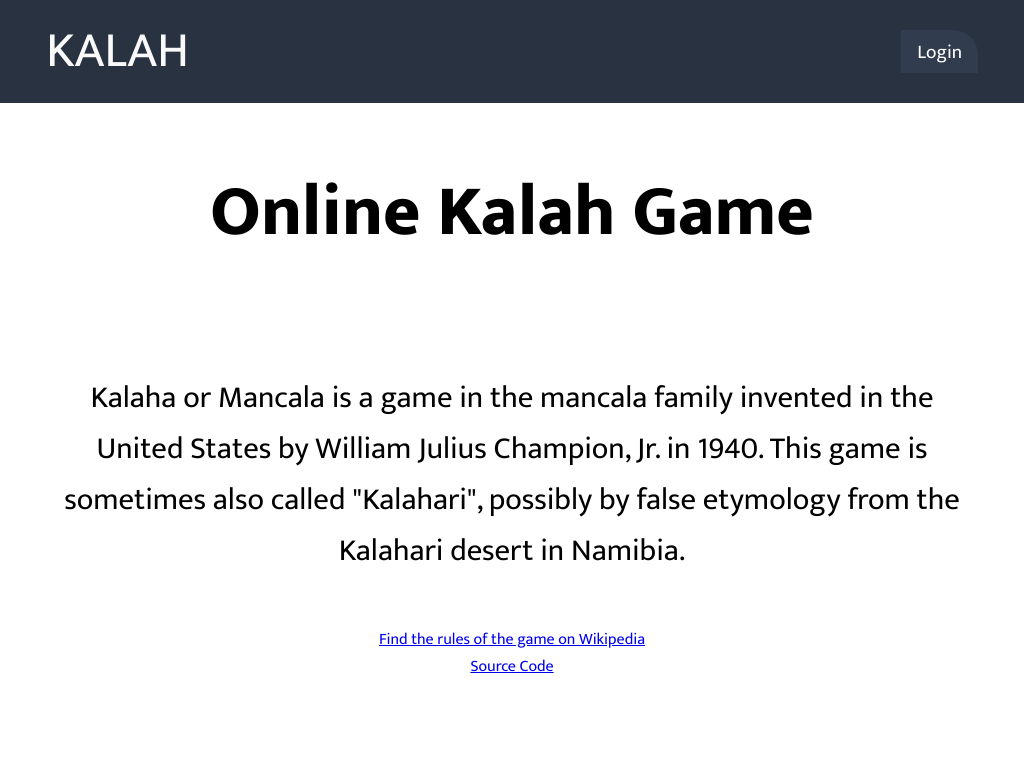
Test: Login › should login
Click the link "Login": (940, 52) [901,30,978,73]
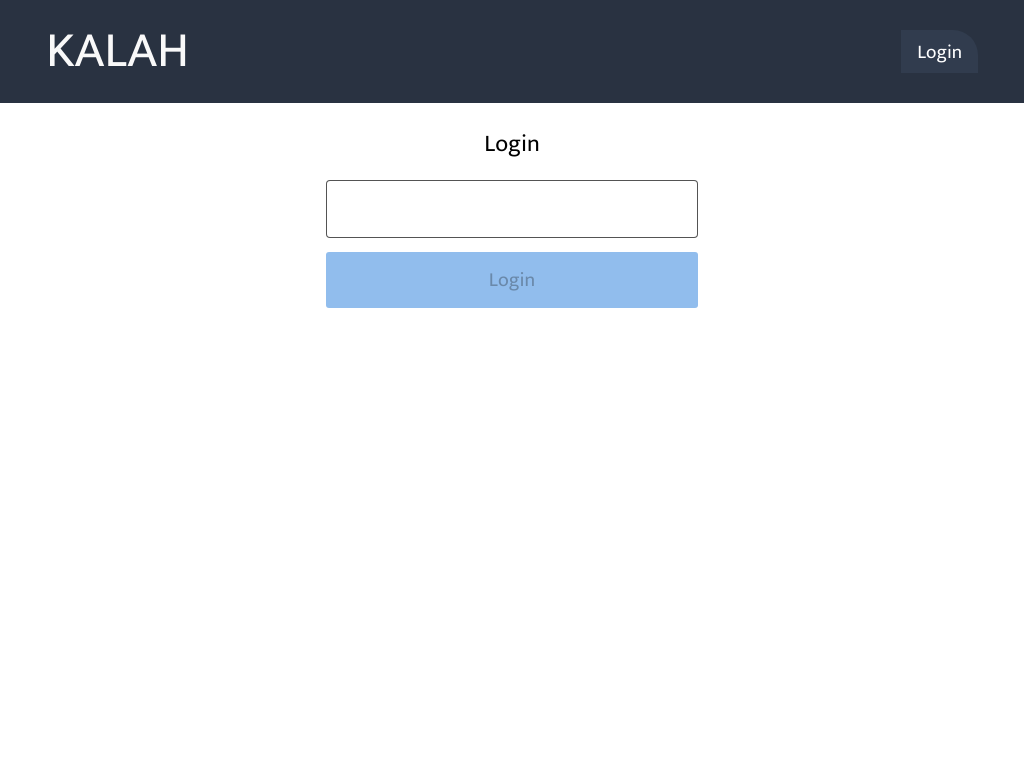
In the field with test id "usernameInput": (512, 209) [326,180,698,238], type "God Father"
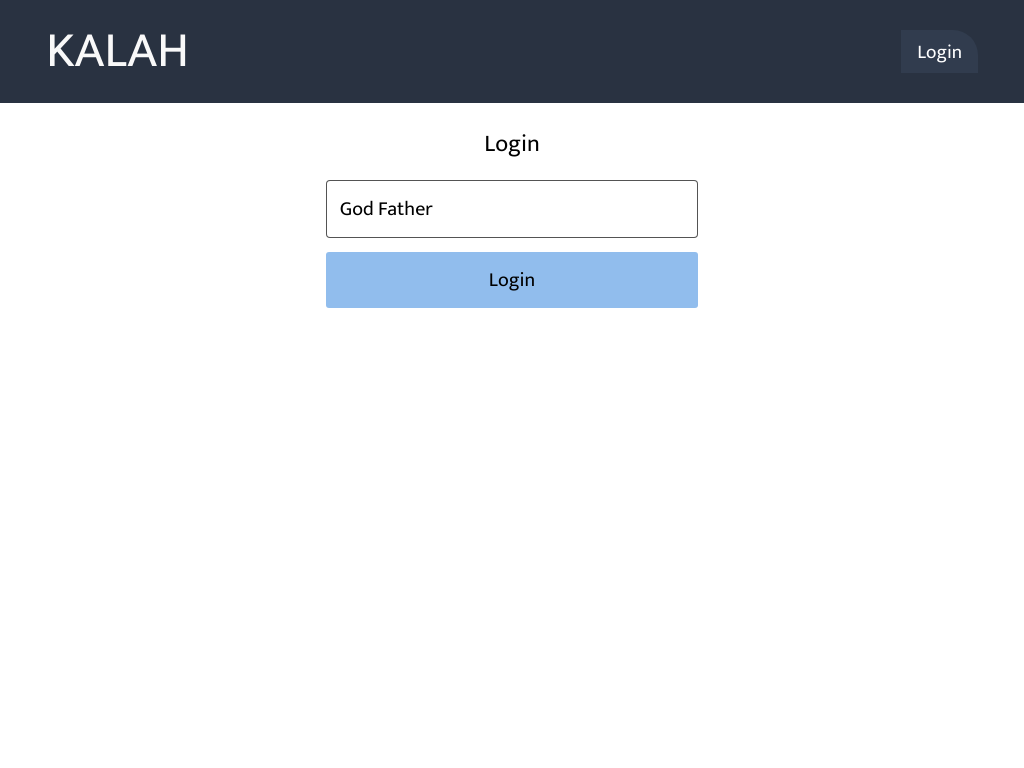
Click the button with test id "usernameButton": (512, 280) [326,252,698,308]
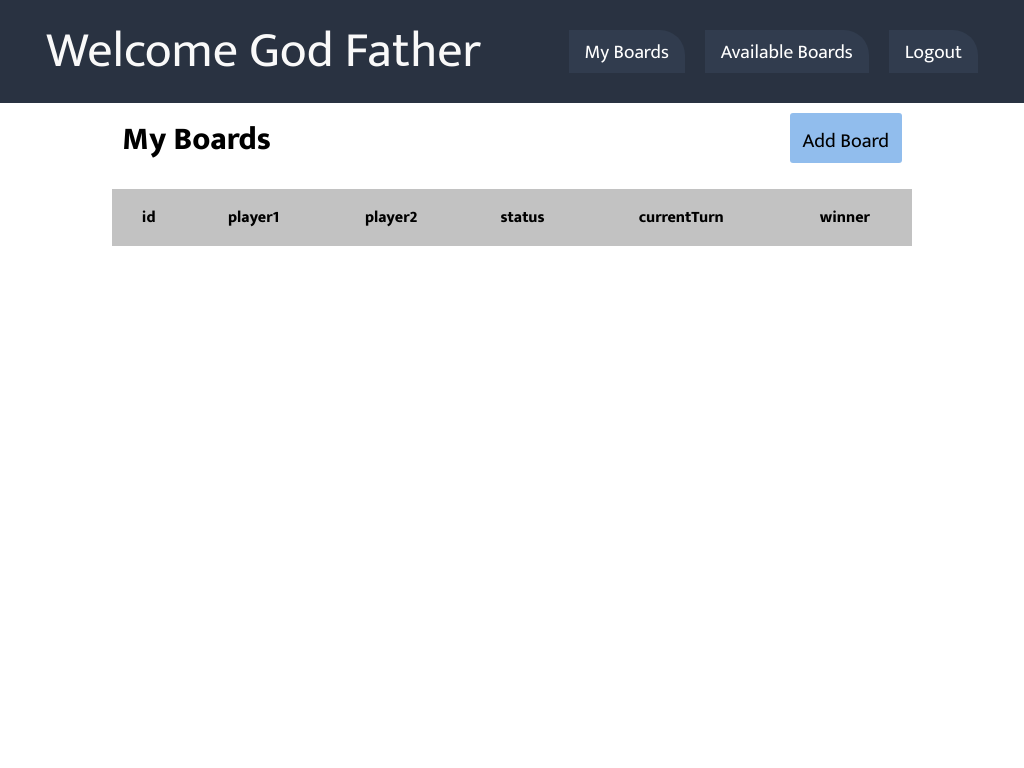
Expected: the text "Welcome God Father" is shown, [46,10,481,93]
